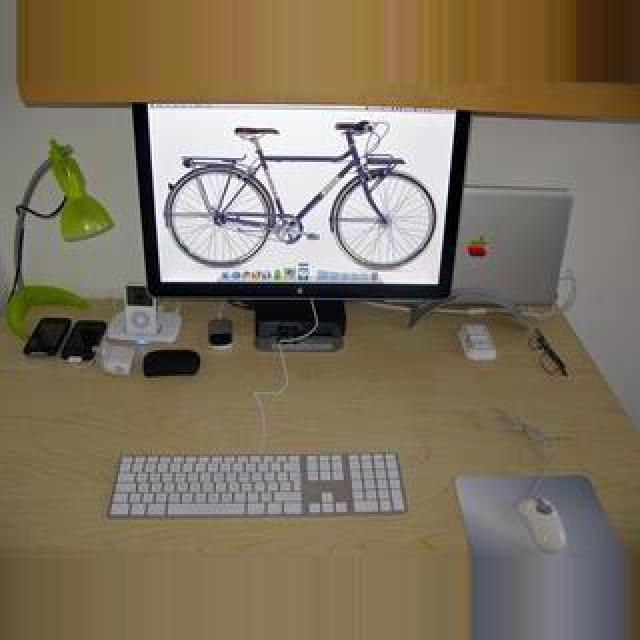Person: (161, 118, 441, 284)
